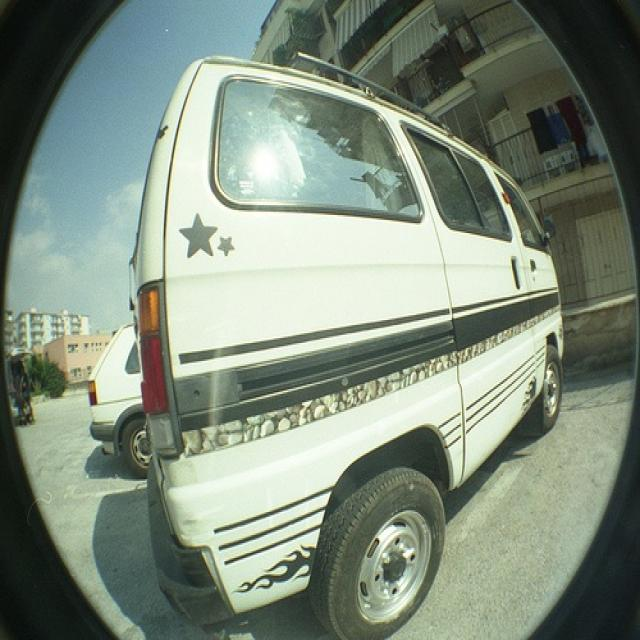car: (132, 54, 570, 638), (85, 318, 154, 471)
